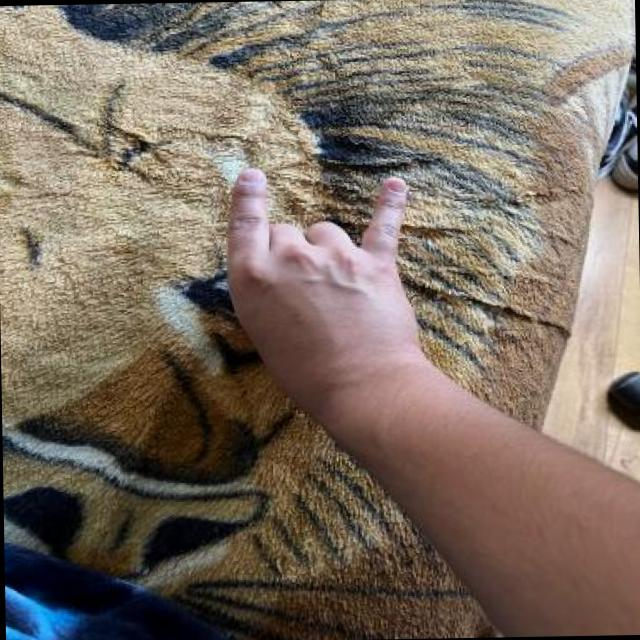U: (212, 163, 433, 406)
